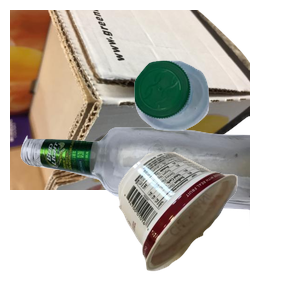cardboard: (10, 10, 250, 190)
glass: (18, 124, 258, 300)
plastic: (132, 58, 300, 182)
trash: (116, 149, 300, 300)
